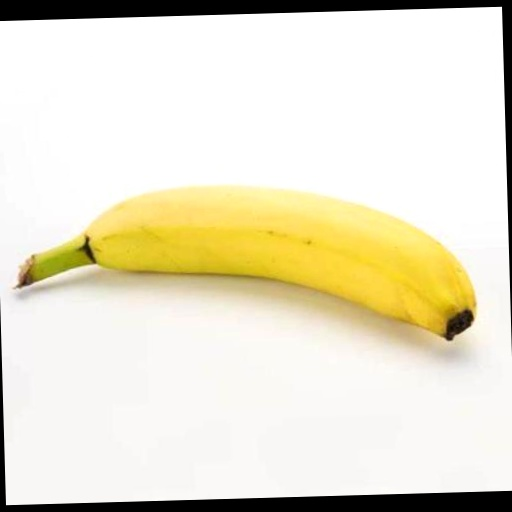fruit: (19, 186, 476, 339)
